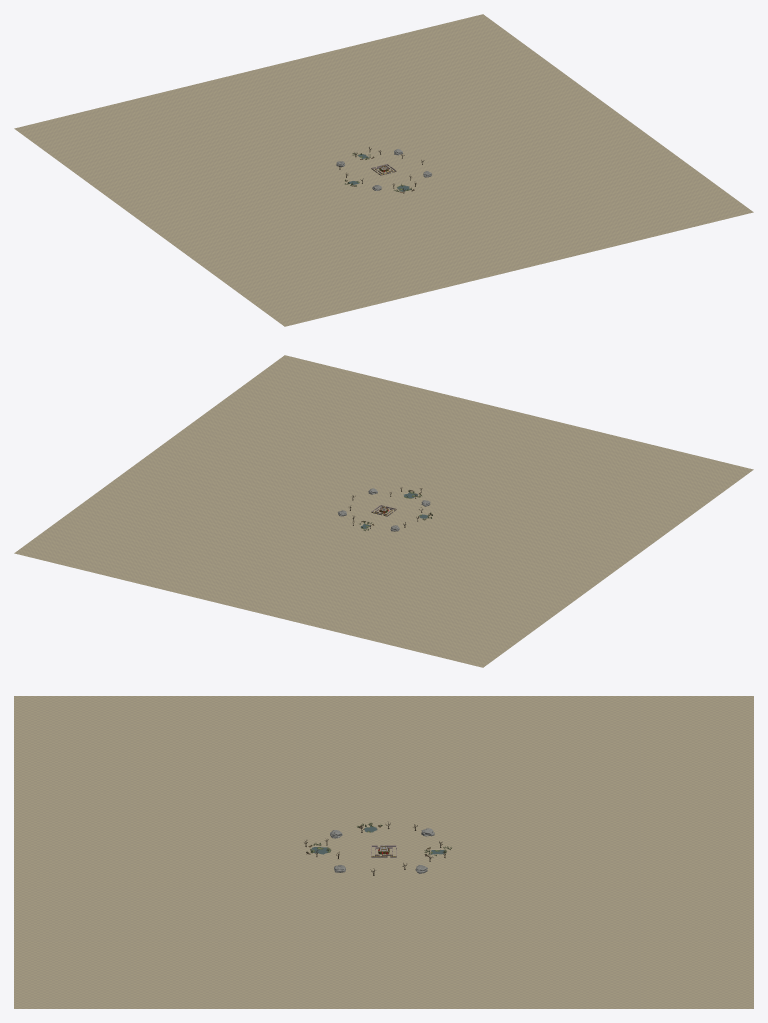
File: Swamp.fbx
3 views of the same model, one above another, from view 1: azimuth 30°, elevation 25°; view 2: azimuth 150°, elevation 25°; view 3: azimuth 270°, elevation 25° (orthographic). The views are drawn at different scales.
Visible parts, largest first — view 1: Plane; view 2: Plane; view 3: Plane.
Part boxes in pixels (<box>): Plane: <box>14,14,753,326</box>; Plane: <box>14,355,753,667</box>; Plane: <box>14,696,753,1008</box>.
Bounding box in the file's own units: 800 × 11.99 × 800.
5 materials, 4 textured.
